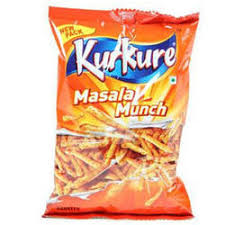kurkure: (74, 31, 178, 84)
plastic: (52, 5, 192, 225)
